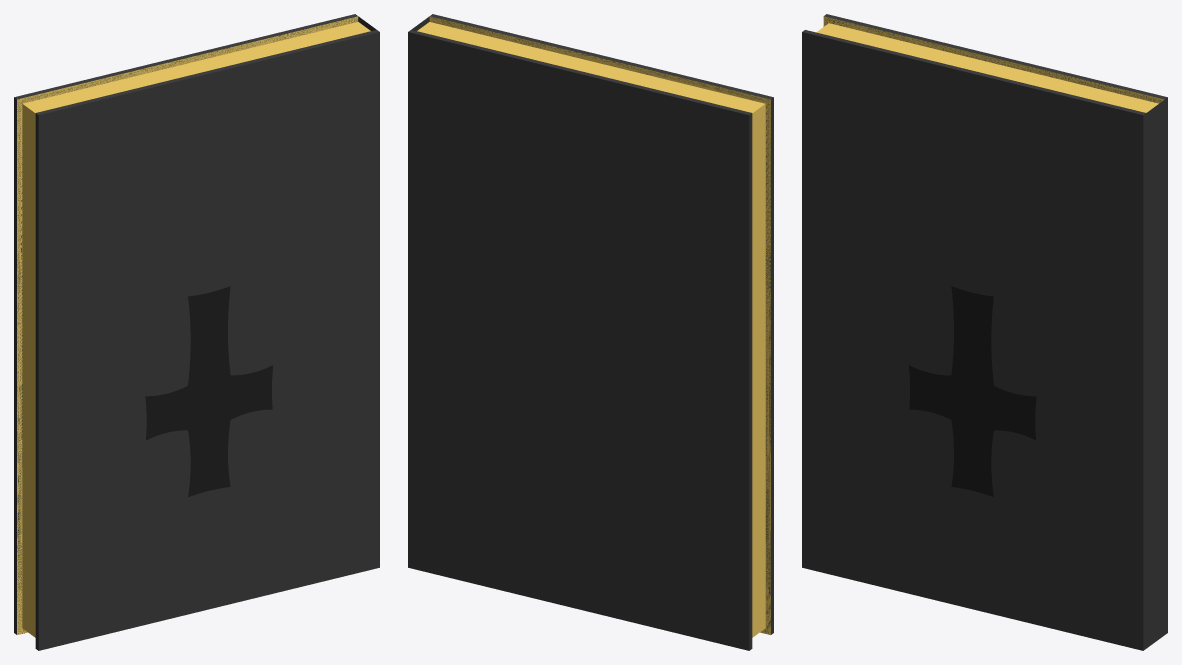
The picture shows the model from 3 angles, left to right: view 1: azimuth 30°, elevation 25°; view 2: azimuth 150°, elevation 25°; view 3: azimuth 330°, elevation 25°; orthographic projection.
Parts seen in each view (by area): view 1: the holy bible; view 2: the holy bible; view 3: the holy bible.
Boxes of the visible parts, left/top/right/bottom form: the holy bible: left=14, top=14, right=379, bottom=650; the holy bible: left=408, top=14, right=773, bottom=650; the holy bible: left=802, top=14, right=1167, bottom=650.
Size of the model in its own units: 4 by 6 by 0.5.
